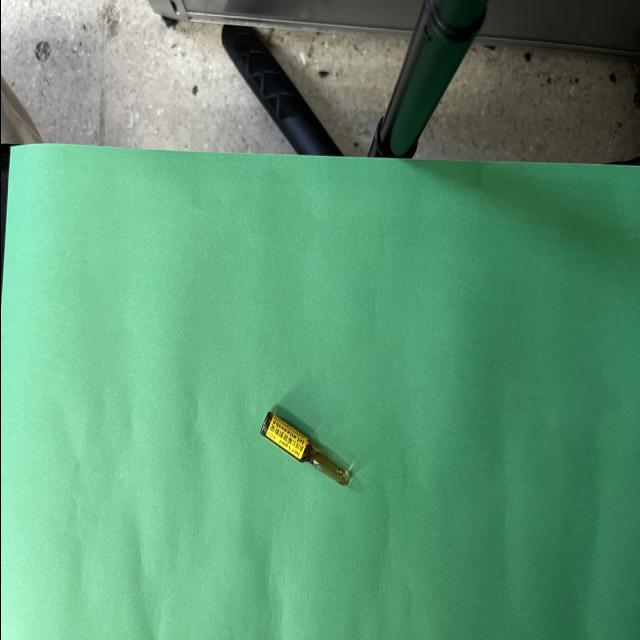Ampoules: (260, 411, 349, 484)
